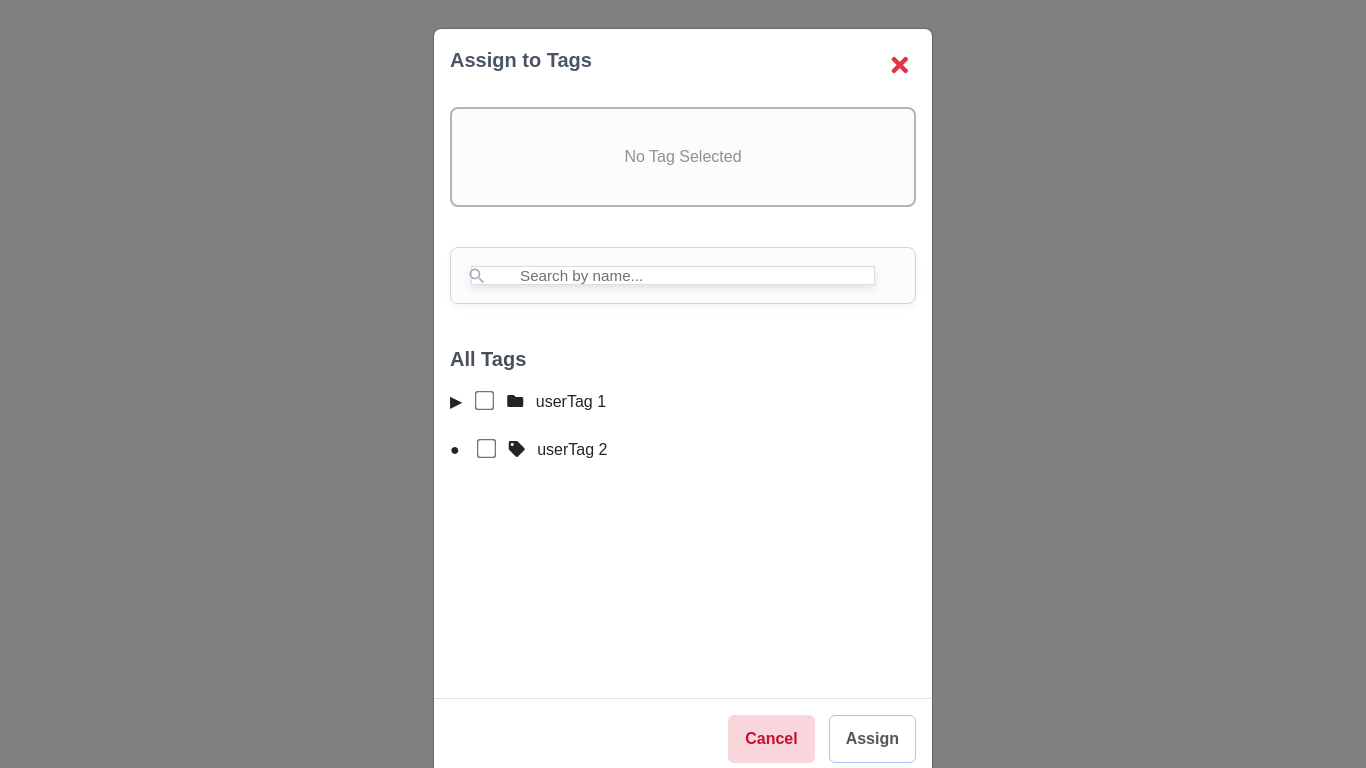
Scenario: Organisation Tags Page › Renders error component when when subTags query is unsuccessful
Click the text with test id "expandSubTags1" at (456, 402), box x1=450 y1=393 x2=462 y2=410
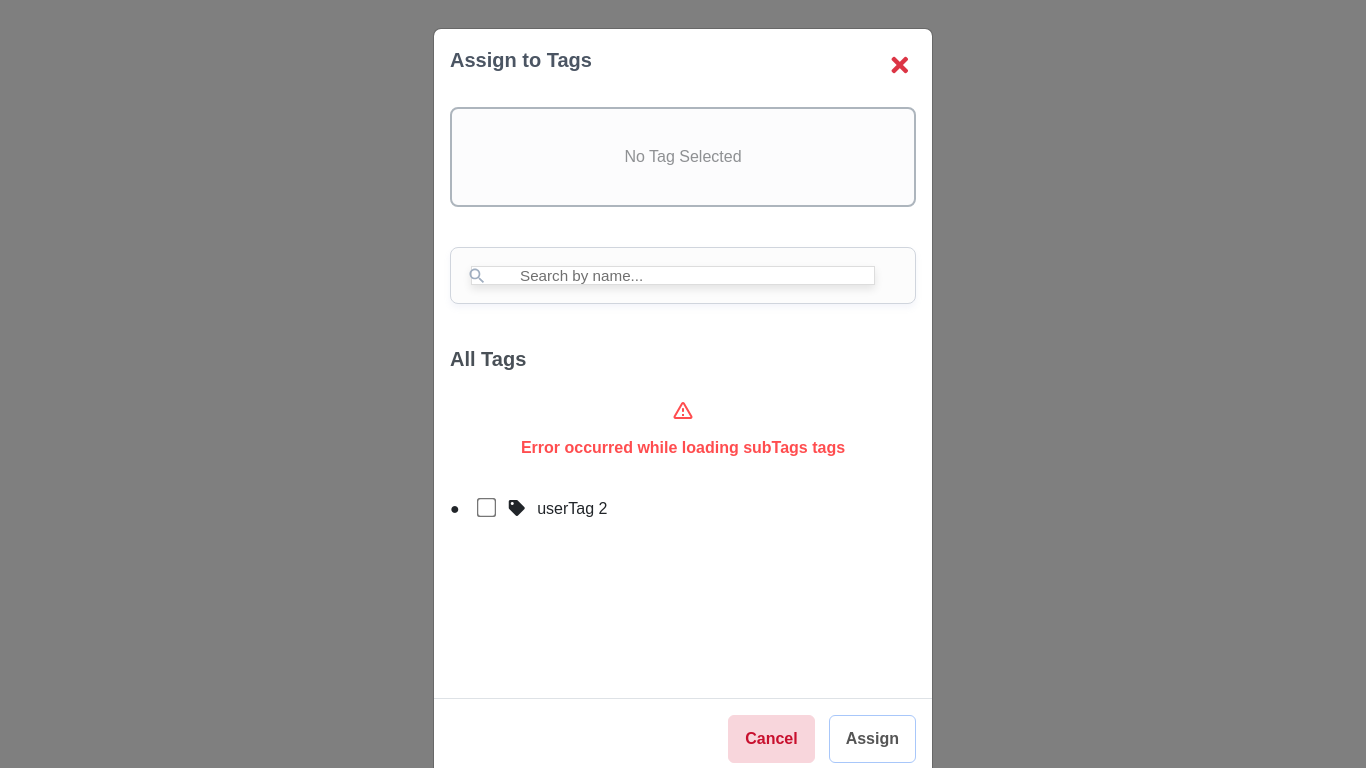
Expected: the heading "Error occurred while loading subTags tags" is shown, x1=521 y1=438 x2=845 y2=457
